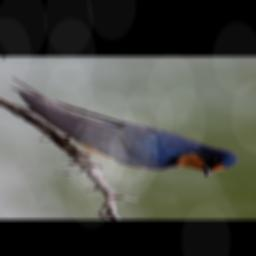Swallow: (2, 68, 249, 185)
